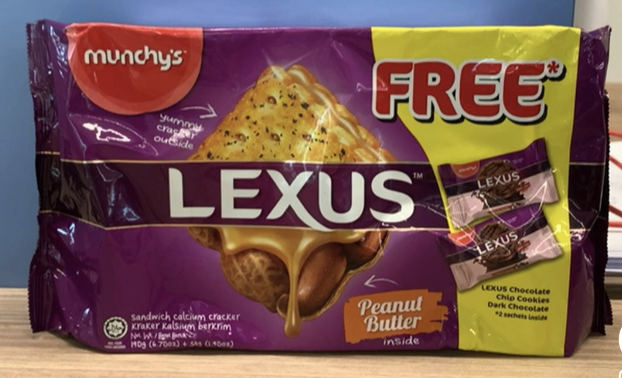crackers_200g-299g: (55, 42, 570, 349)
